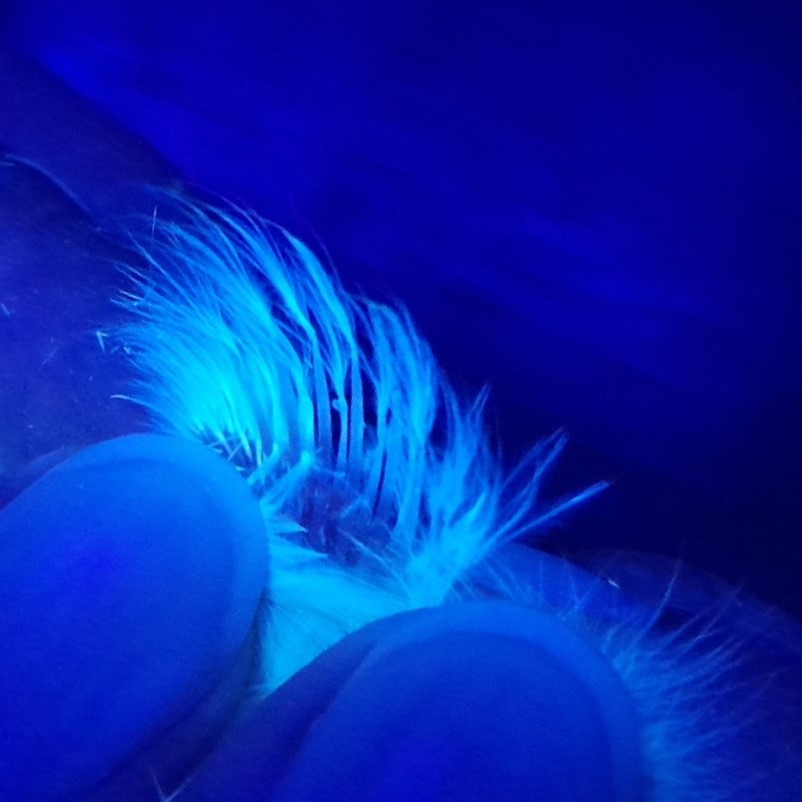male: (232, 300, 457, 569)
